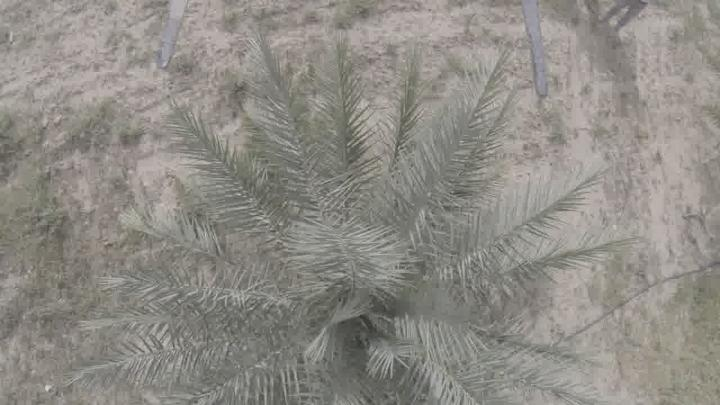Date-Palm-Crown: (209, 187, 511, 405)
